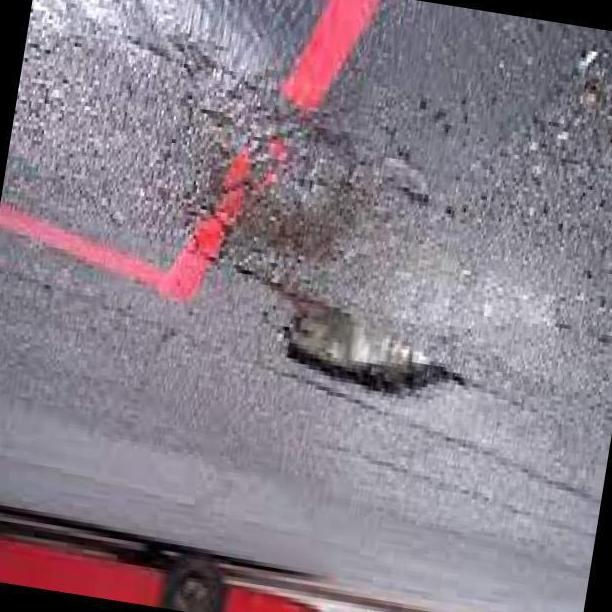pothole: (255, 293, 483, 412)
